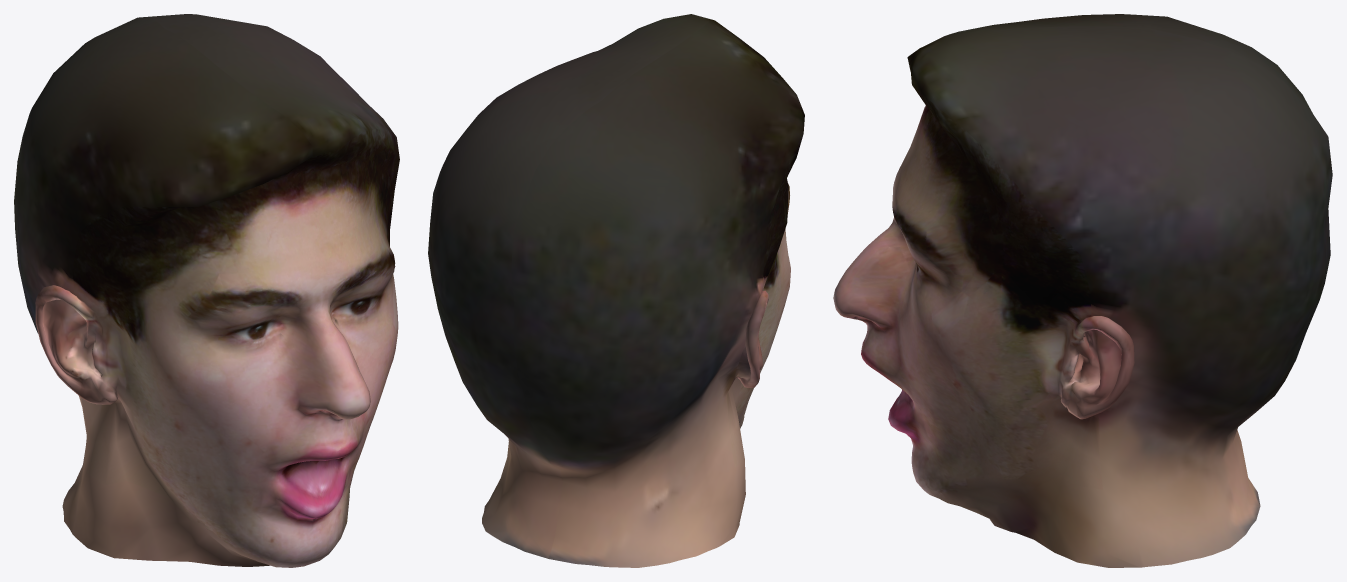
File: ver.gltf
The picture shows the model from 3 angles, left to right: view 1: azimuth 30°, elevation 25°; view 2: azimuth 150°, elevation 25°; view 3: azimuth 270°, elevation 25°; orthographic projection. The views are drawn at different scales.
Visible parts, largest first — view 1: model_T; view 2: model_T; view 3: model_T.
Part boxes in pixels (x1,y1,x2,y2): model_T: [14, 14, 399, 567]; model_T: [428, 14, 804, 567]; model_T: [833, 14, 1332, 567].
Size of the model in its own units: 0.1687 by 0.2325 by 0.2209.
1 material, 1 textured.
